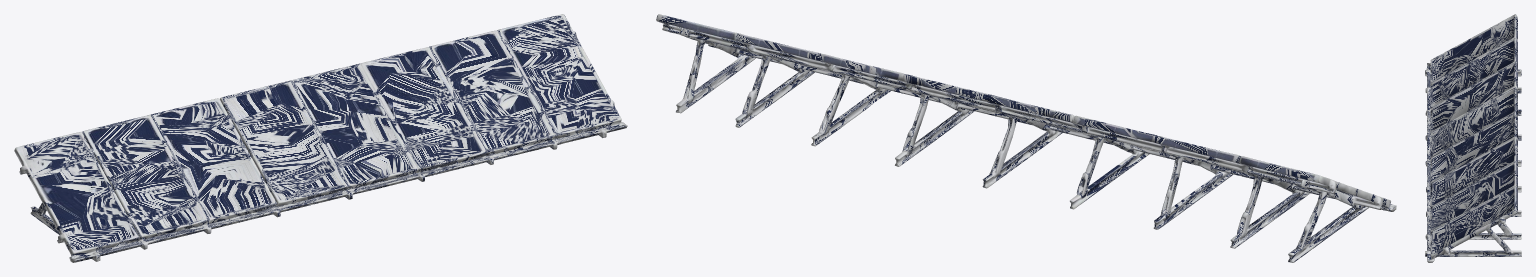
Rendered from solar.glb.
3 views of the same model, side by side, from view 1: azimuth 30°, elevation 25°; view 2: azimuth 150°, elevation 25°; view 3: azimuth 270°, elevation 25° (orthographic). The views are drawn at different scales.
Bounding box in the file's own units: 1.9 × 0.2433 × 0.3923.
1 material, 1 textured.
